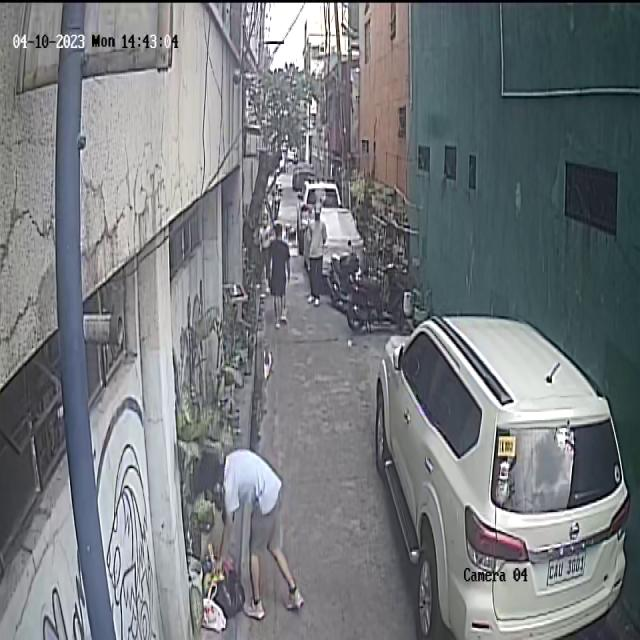human: (199, 450, 305, 621)
trash: (194, 546, 249, 634)
